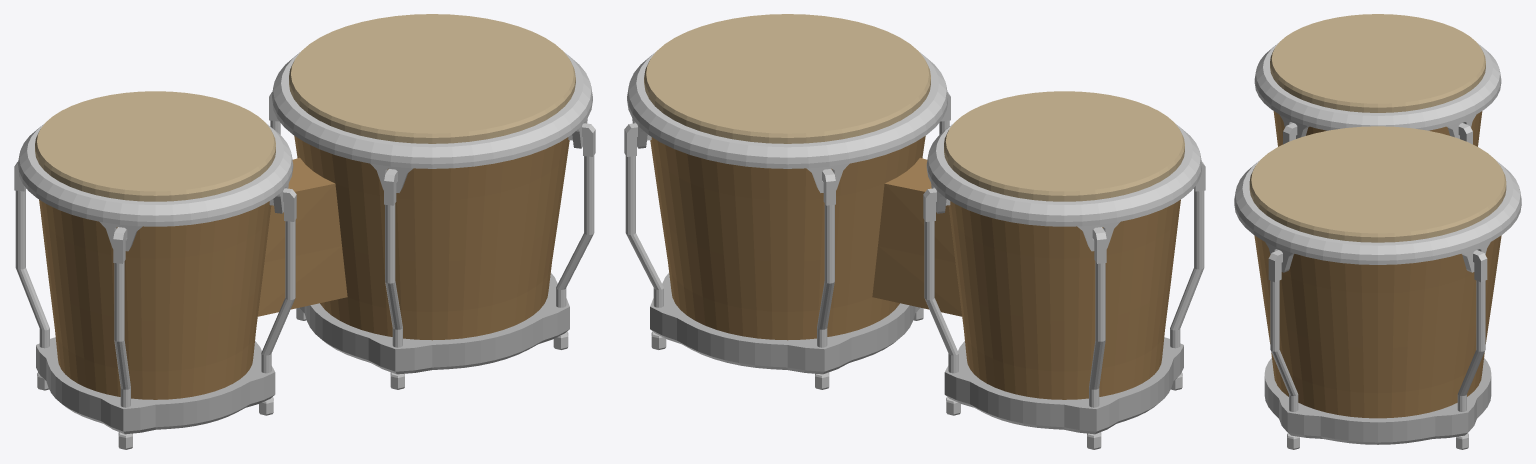
The picture shows the model from 3 angles, left to right: view 1: azimuth 30°, elevation 25°; view 2: azimuth 150°, elevation 25°; view 3: azimuth 270°, elevation 25°; orthographic projection. The views are drawn at different scales.
Visible parts, largest first — view 1: Large_tapered_shell, Small_tapered_shell, Large_closed_head, Small_closed_head, Large_comfort_upper_rim, Large_lower_rim, Center_bridge, Small_comfort_upper_rim, Small_lower_rim, Small_tension_rod_2, Small_tension_rod_4, Large_tension_rod_4 (+2 smaller); view 2: Large_tapered_shell, Small_tapered_shell, Large_closed_head, Small_closed_head, Large_comfort_upper_rim, Large_lower_rim, Center_bridge, Small_comfort_upper_rim, Small_lower_rim, Small_tension_rod_3, Small_tension_rod_1, Large_tension_rod_1 (+2 smaller); view 3: Large_tapered_shell, Large_closed_head, Small_closed_head, Large_comfort_upper_rim, Large_lower_rim, Small_comfort_upper_rim, Large_tension_rod_1, Large_tension_rod_4, Small_tapered_shell, Large_hooked_tension_tip_1, Large_hooked_tension_tip_4, Large_slotted_rim_tab_1 (+1 smaller).
Part boxes in pixels (x1,y1,x2,y2): Large_tapered_shell: (294,136,569,340); Small_tapered_shell: (39,199,271,399); Large_closed_head: (289,14,575,143); Small_closed_head: (35,91,275,201); Large_comfort_upper_rim: (272,52,592,168); Large_lower_rim: (299,272,569,374); Center_bridge: (258,157,347,316); Small_comfort_upper_rim: (18,123,293,226); Small_lower_rim: (36,337,275,434); Small_tension_rod_2: (15,189,49,348); Small_tension_rod_4: (261,220,295,373); Large_tension_rod_4: (556,155,594,307); Large_tapered_shell: (650,136,925,340); Small_tapered_shell: (948,199,1180,399); Large_closed_head: (644,14,930,143); Small_closed_head: (944,91,1184,201); Large_comfort_upper_rim: (627,52,947,168); Large_lower_rim: (650,272,920,374); Center_bridge: (872,157,961,316); Small_comfort_upper_rim: (926,123,1201,226); Small_lower_rim: (944,337,1183,434); Small_tension_rod_3: (1170,189,1204,348); Small_tension_rod_1: (924,220,958,373); Large_tension_rod_1: (625,155,663,307); Large_tapered_shell: (1254,235,1501,418); Large_closed_head: (1249,126,1506,242); Small_closed_head: (1270,14,1485,112); Large_comfort_upper_rim: (1234,160,1521,264); Large_lower_rim: (1264,358,1491,444); Small_comfort_upper_rim: (1254,43,1501,130); Large_tension_rod_1: (1457,280,1485,411); Large_tension_rod_4: (1270,280,1298,411); Small_tapered_shell: (1273,111,1482,146); Large_hooked_tension_tip_1: (1473,250,1487,282); Large_hooked_tension_tip_4: (1268,250,1282,282); Large_slotted_rim_tab_1: (1461,242,1490,272).
Bounding box in the file's own units: 0.4716 × 0.218 × 0.2451.
